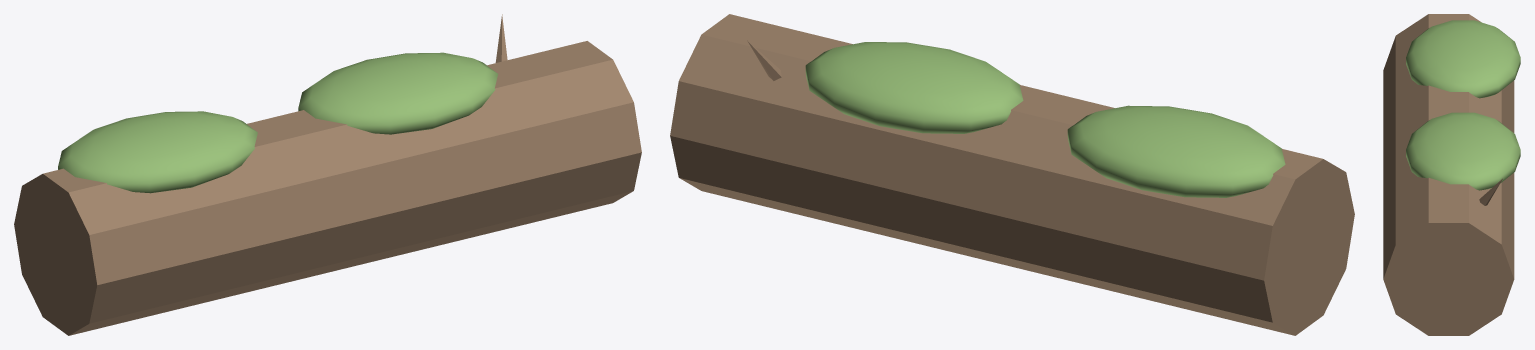
File: jungle__log.fbx
3 views of the same model, side by side, from view 1: azimuth 30°, elevation 25°; view 2: azimuth 150°, elevation 25°; view 3: azimuth 270°, elevation 25° (orthographic). The views are drawn at different scales.
Parts seen in each view (by area): view 1: jungle__log; view 2: jungle__log; view 3: jungle__log.
Boxes of the visible parts, bbox=[...] form: jungle__log: bbox=[14, 14, 641, 335]; jungle__log: bbox=[670, 14, 1354, 335]; jungle__log: bbox=[1383, 14, 1520, 335].
Bounding box in the file's own units: 3.4 × 1.01 × 0.9439.
